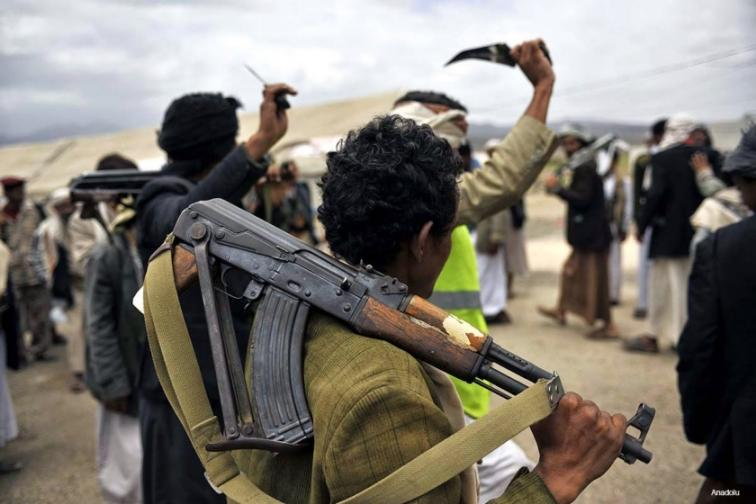gun: (135, 199, 653, 466)
